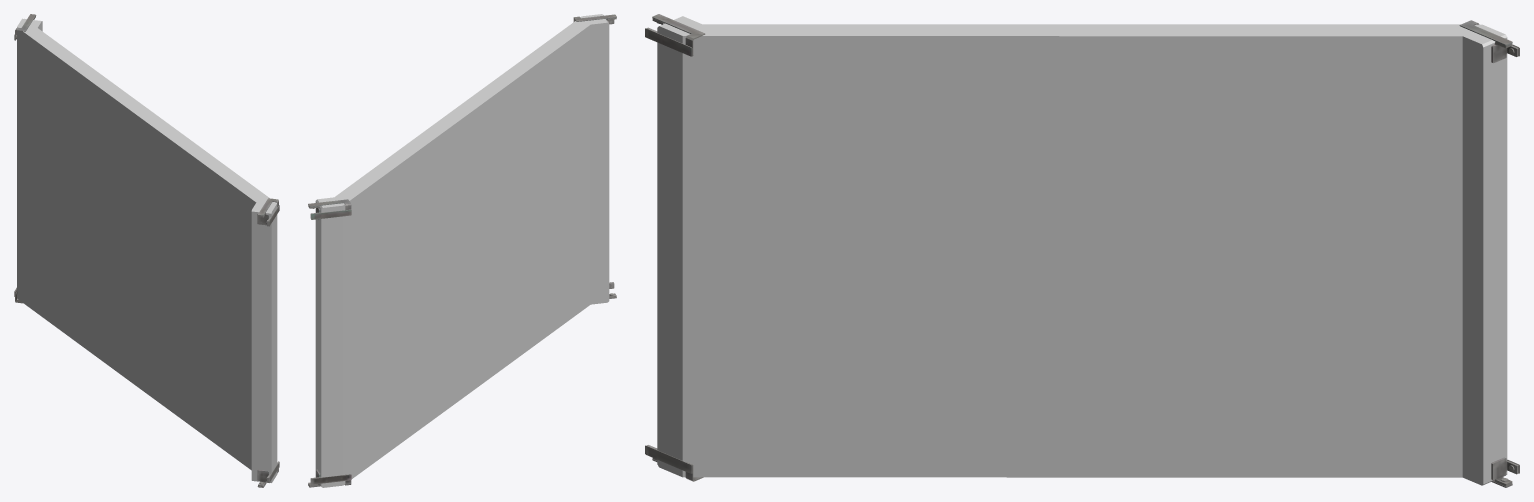
File: SM_WallDiagonal_Glass_8331bb.glb
The picture shows the model from 3 angles, left to right: view 1: azimuth 30°, elevation 25°; view 2: azimuth 150°, elevation 25°; view 3: azimuth 270°, elevation 25°; orthographic projection. The views are drawn at different scales.
Bounding box in the file's own units: 0.4974 × 3.34 × 5.98.
2 materials, 1 textured.
